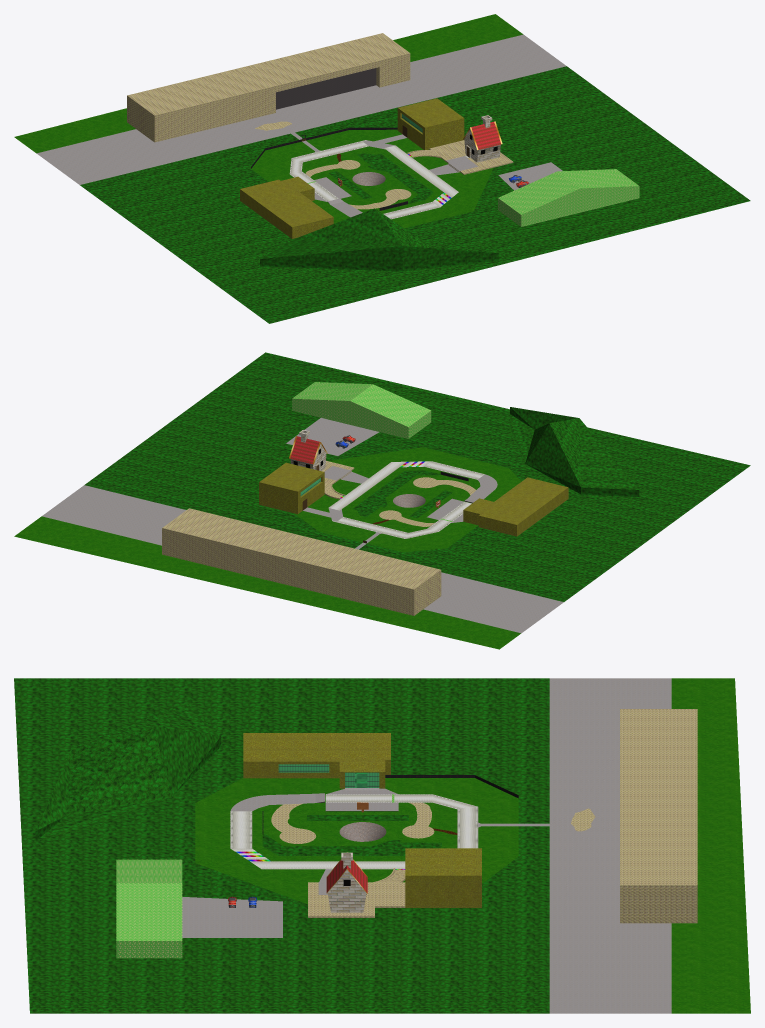
3 views of the same model, one above another, from view 1: azimuth 30°, elevation 25°; view 2: azimuth 150°, elevation 25°; view 3: azimuth 270°, elevation 25° (orthographic). The views are drawn at different scales.
Parts seen in each view (by area): view 1: yard2_Main-Solid_Fall, yard2_Main-AsphaltTrickable, yard2_Main-Road, yard2_Main-Grass, yard2_Main-WallBlock, yard2_Main-StartLine, yard2_Main-BrickRoad, yard2_Main-WallMini, yard2_Main-RoadAsphalt, yard2_c_Component_14-roof, yard2_Main-Fence, yard2_c_Component_14-brick_edited1; view 2: yard2_Main-Solid_Fall, yard2_Main-Grass, yard2_Main-Road, yard2_Main-AsphaltTrickable, yard2_Main-WallBlock, yard2_Main-StartLine, yard2_Main-BrickRoad, yard2_Main-RoadAsphalt, yard2_c_Component_14-roof; view 3: yard2_Main-Solid_Fall, yard2_Main-Grass, yard2_Main-AsphaltTrickable, yard2_Main-Road, yard2_Main-WallBlock, yard2_Main-StartLine, yard2_Main-BrickRoad, yard2_Main-RoadAsphalt, yard2_c_Component_14-brick_edited1, yard2_Main-MetalWall, yard2_Main-Gravel, yard2_Main-Wall (+1 smaller).
Part boxes in pixels (<box>): yard2_Main-Solid_Fall: <box>80,66,750,323</box>; yard2_Main-AsphaltTrickable: <box>36,34,566,201</box>; yard2_Main-Road: <box>127,33,512,209</box>; yard2_Main-Grass: <box>14,14,523,228</box>; yard2_Main-WallBlock: <box>240,98,464,238</box>; yard2_Main-StartLine: <box>307,169,639,226</box>; yard2_Main-BrickRoad: <box>289,140,469,219</box>; yard2_Main-WallMini: <box>276,68,376,203</box>; yard2_Main-RoadAsphalt: <box>314,134,478,217</box>; yard2_c_Component_14-roof: <box>471,121,500,149</box>; yard2_Main-Fence: <box>251,127,407,210</box>; yard2_c_Component_14-brick_edited1: <box>464,115,500,162</box>; yard2_Main-Solid_Fall: <box>84,352,750,601</box>; yard2_Main-Grass: <box>14,447,521,649</box>; yard2_Main-Road: <box>162,460,475,615</box>; yard2_Main-AsphaltTrickable: <box>42,418,563,633</box>; yard2_Main-WallBlock: <box>259,462,568,536</box>; yard2_Main-StartLine: <box>292,382,452,521</box>; yard2_Main-BrickRoad: <box>328,461,484,538</box>; yard2_Main-RoadAsphalt: <box>303,466,497,522</box>; yard2_c_Component_14-roof: <box>290,436,319,463</box>; yard2_Main-Solid_Fall: <box>14,678,549,1013</box>; yard2_Main-Grass: <box>195,678,750,1013</box>; yard2_Main-AsphaltTrickable: <box>182,678,671,1013</box>; yard2_Main-Road: <box>271,709,697,923</box>; yard2_Main-WallBlock: <box>243,733,481,907</box>; yard2_Main-StartLine: <box>116,794,394,958</box>; yard2_Main-BrickRoad: <box>230,794,478,869</box>; yard2_Main-RoadAsphalt: <box>230,788,398,894</box>; yard2_c_Component_14-brick_edited1: <box>327,852,366,912</box>; yard2_Main-MetalWall: <box>278,764,379,787</box>; yard2_Main-Gravel: <box>339,822,386,841</box>; yard2_Main-Wall: <box>308,808,595,917</box>.
Bounding box in the file's own units: 167211 × 17338 × 155177.
49 materials, 49 textured.
